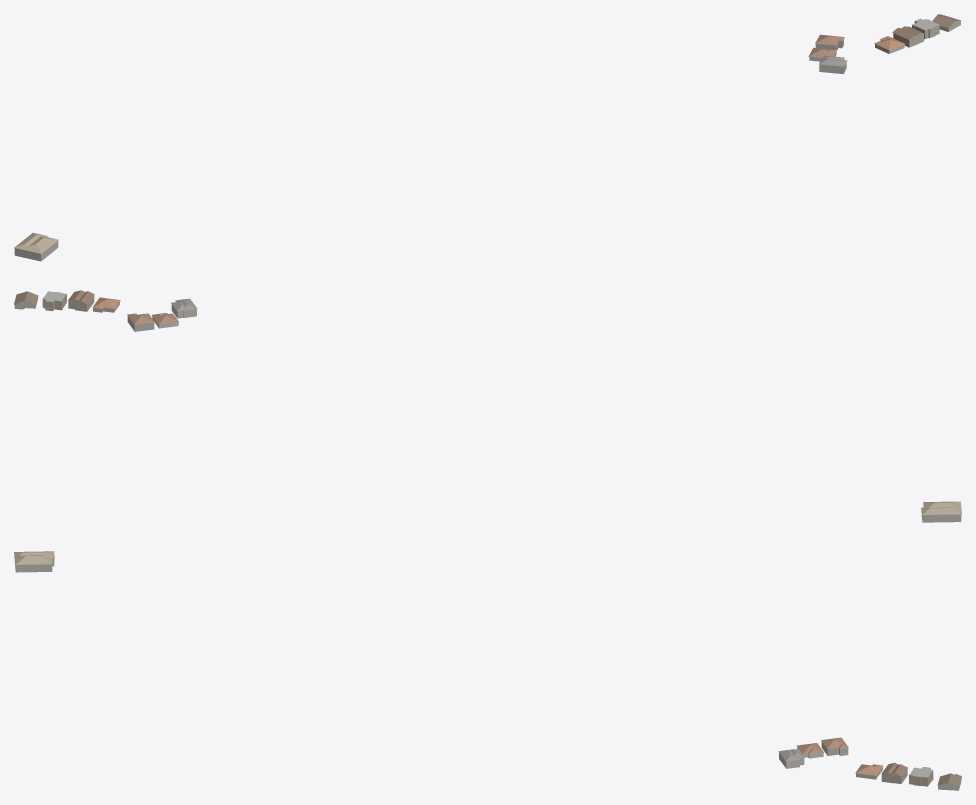
The model's file is buildings_r7_c4.glb.
3 renders of one model, top to bottom at view 1: azimuth 30°, elevation 25°; view 2: azimuth 150°, elevation 25°; view 3: azimuth 330°, elevation 25°, orthographic.
Visible parts, largest first — view 1: buildings_r7_c4; view 2: buildings_r7_c4; view 3: buildings_r7_c4.
Part boxes in pixels (x1,y1,x2,y2): buildings_r7_c4: (14,14,961,261); buildings_r7_c4: (14,290,961,522); buildings_r7_c4: (14,551,961,790).
Bounding box in the file's own units: 887 × 15.53 × 65.23.
